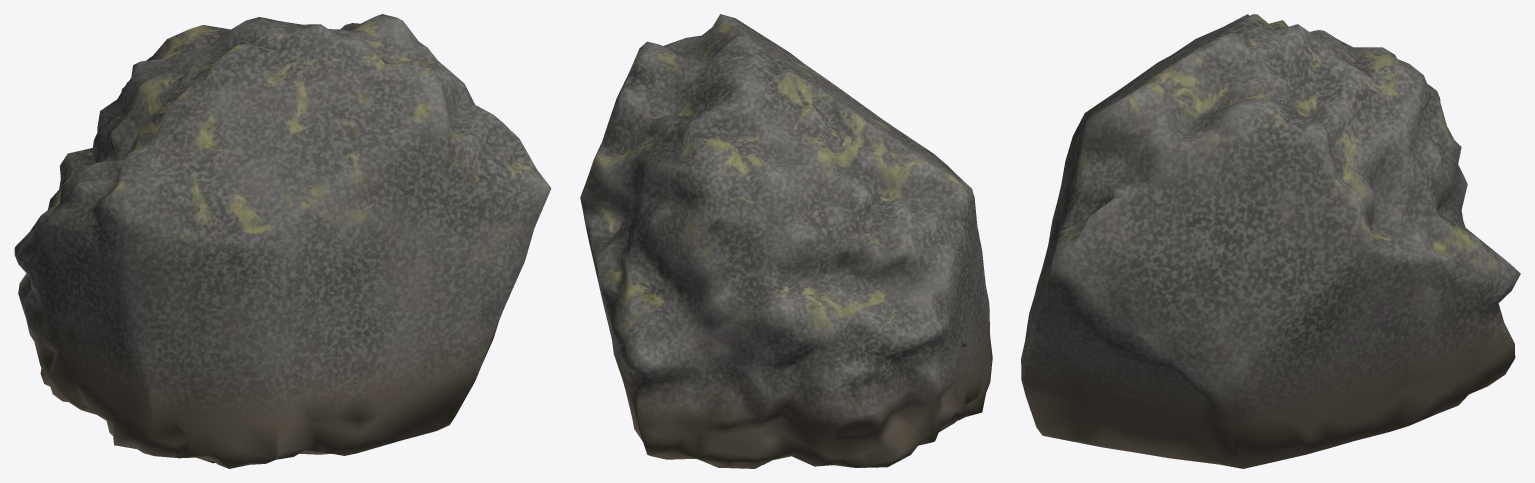
File: rock_a.glb
The picture shows the model from 3 angles, left to right: view 1: azimuth 30°, elevation 25°; view 2: azimuth 150°, elevation 25°; view 3: azimuth 270°, elevation 25°; orthographic projection. The views are drawn at different scales.
Visible parts, largest first — view 1: rock_a; view 2: rock_a; view 3: rock_a.
Part boxes in pixels (x1,y1,x2,y2): rock_a: (14,14,551,468); rock_a: (580,14,992,468); rock_a: (1021,14,1520,468).
Bounding box in the file's own units: 1.79 × 1.5 × 1.76.
Materials: 1 (1 with a texture image).
